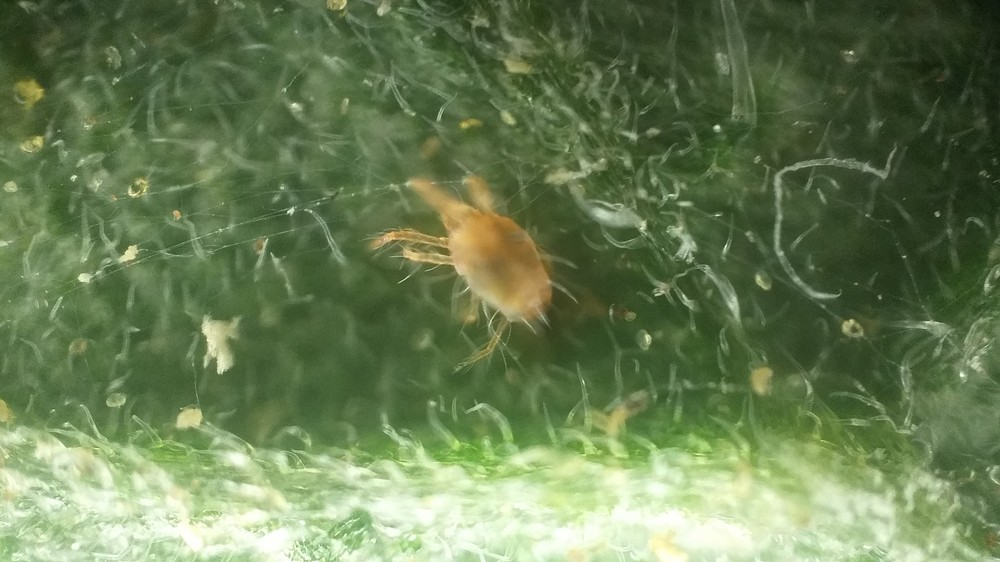Aracnido Rojo: (367, 153, 610, 381)
